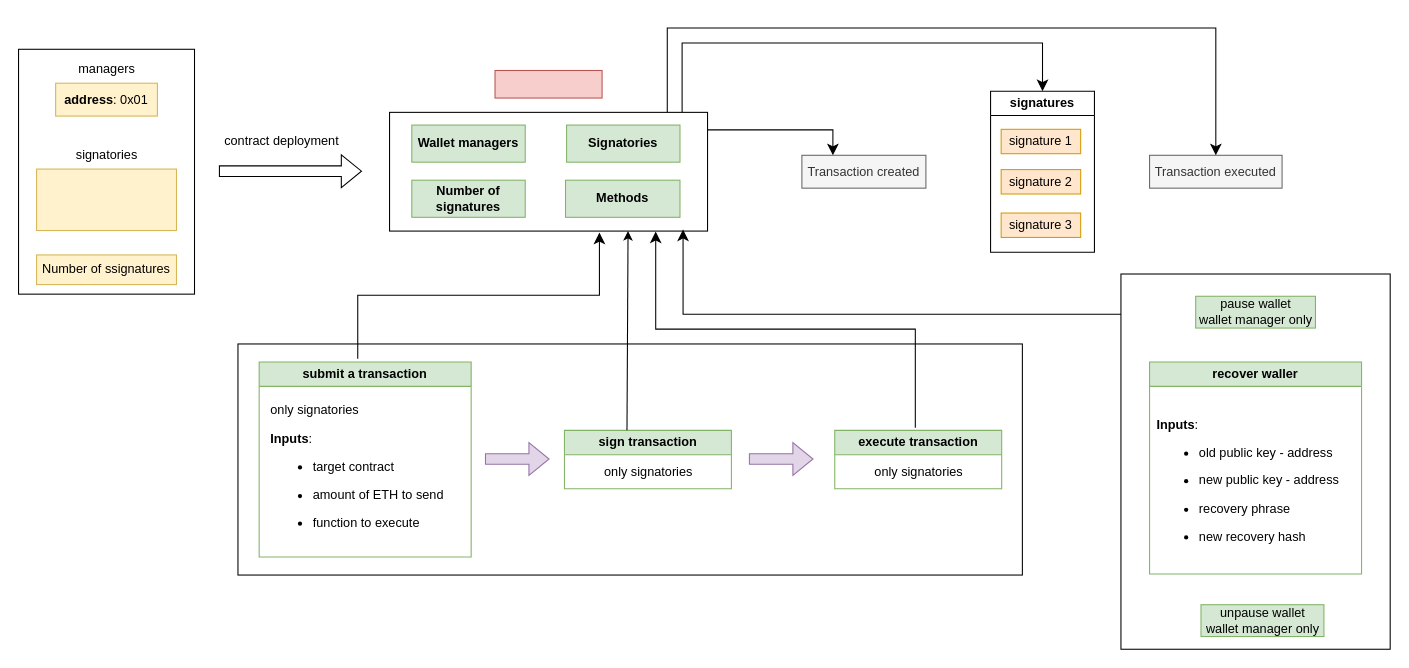
Some shapes in this 1409 by 668 pixel diagram are drawn without their labels. Here are the shapes that lost their labels. From the top down, the centre of each, then its label:
At pixel 548 83: "smart contract".
At pixel 106 199: "address : 0x00... recoveryHash : 0xa1...".
